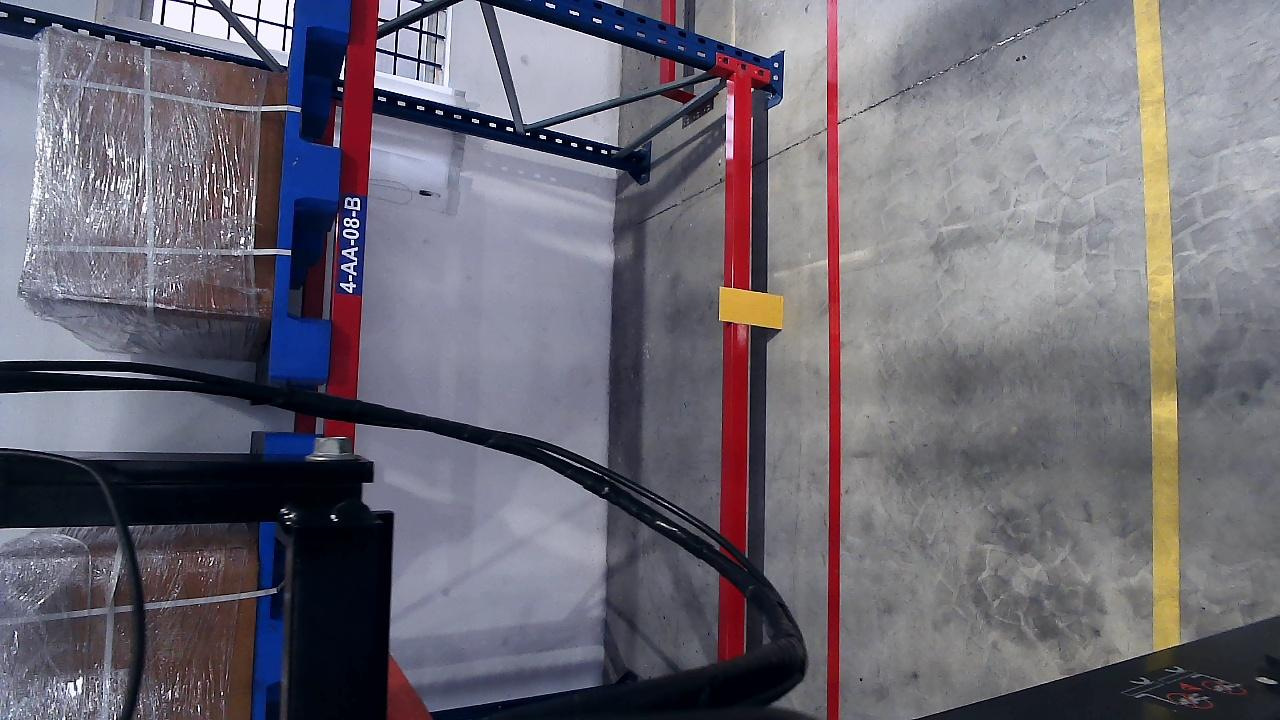h_rack: (325, 0, 382, 391), (726, 75, 759, 635)
orange_strip: (719, 285, 784, 328)
red_line: (822, 29, 844, 699)
small_pallet: (265, 0, 350, 374)
yellow_line: (1135, 0, 1181, 580)
